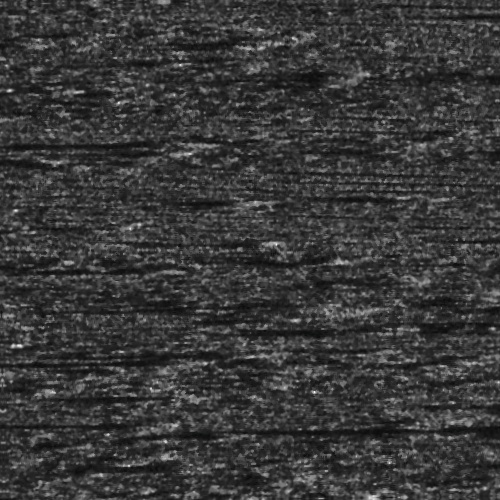object: (0, 328, 73, 345), (141, 144, 194, 155), (228, 348, 281, 355), (168, 356, 221, 363), (158, 138, 231, 143), (147, 265, 210, 270), (169, 391, 210, 396), (136, 421, 177, 426), (33, 153, 64, 158), (375, 328, 406, 331)
shadow: (233, 427, 500, 434), (302, 322, 500, 331), (0, 348, 254, 355), (42, 144, 168, 155), (0, 356, 194, 363), (0, 138, 194, 143), (0, 265, 179, 270), (69, 391, 189, 396), (275, 328, 390, 331), (96, 421, 156, 426), (0, 153, 49, 158)
